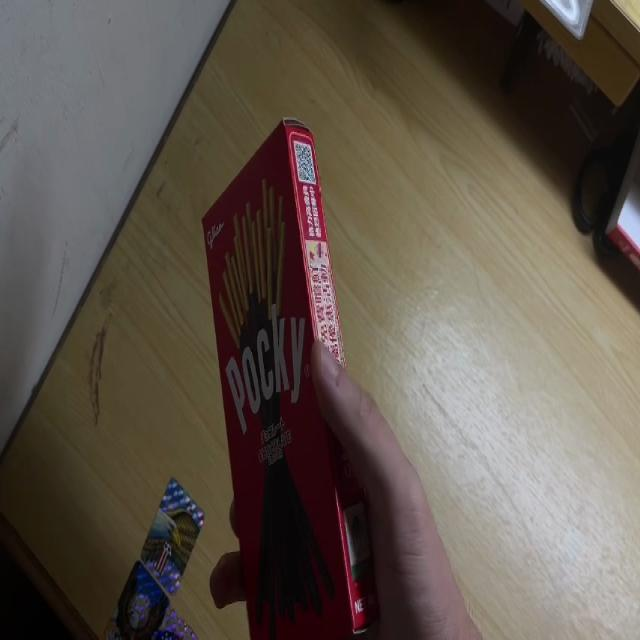Pocky: (201, 120, 378, 640)
